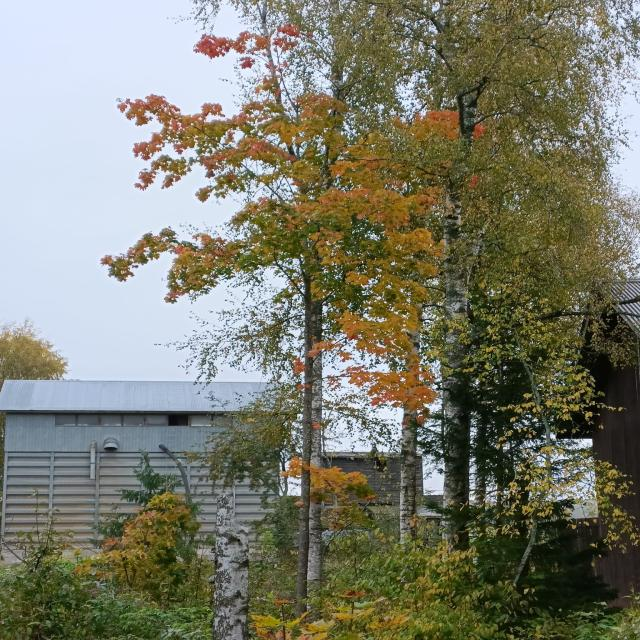Tree-detection: (92, 1, 478, 606)
